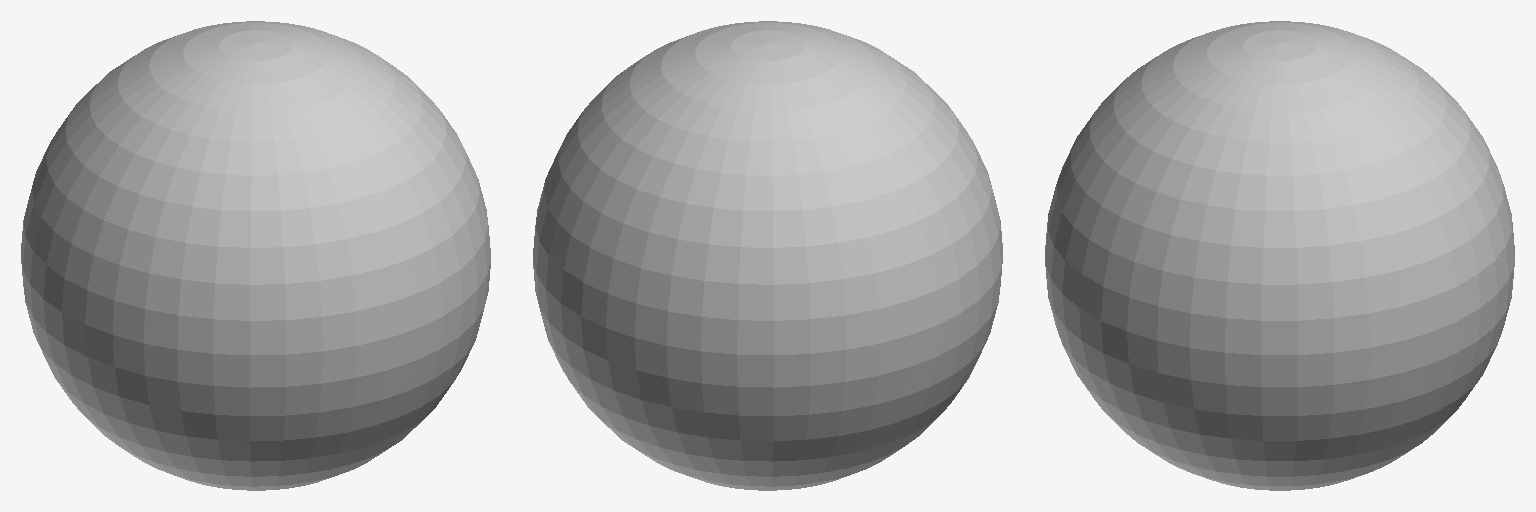
Rendered from meteoritebase.obj.
The picture shows the model from 3 angles: view 1: azimuth 30°, elevation 25°; view 2: azimuth 150°, elevation 25°; view 3: azimuth 270°, elevation 25°; orthographic projection.
Visible parts, largest first — view 1: sphere; view 2: sphere; view 3: sphere.
Boxes of the visible parts, <box> form: sphere: <box>21,21,490,490</box>; sphere: <box>533,21,1002,490</box>; sphere: <box>1045,21,1514,490</box>.
Bounding box in the file's own units: 1 × 1 × 1.